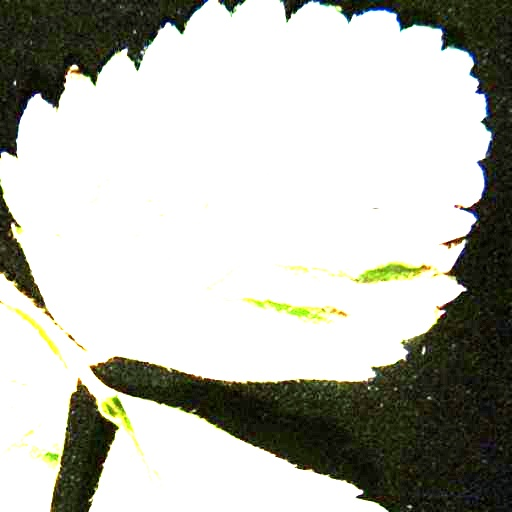Leaf Spot: (0, 0, 492, 383), (0, 301, 76, 511)
